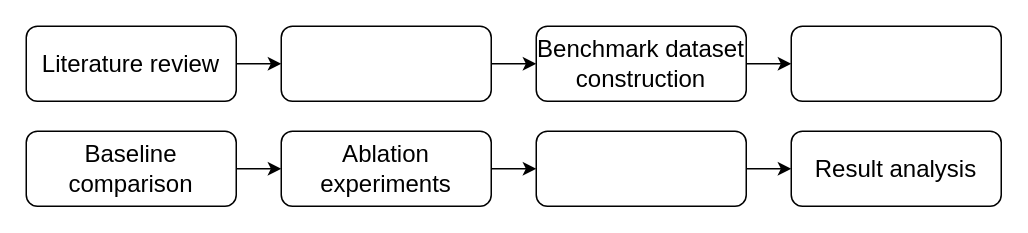
The diagram is 1028 pixels wide and 233 high, and some of its shapes have lost their labels. The shapes that lost their labels are listed below. From the top down, each one's centre as x and y in pixels, then its label:
(385,63): Research gap translation
(895,63): System development
(640,168): Human evaluation
